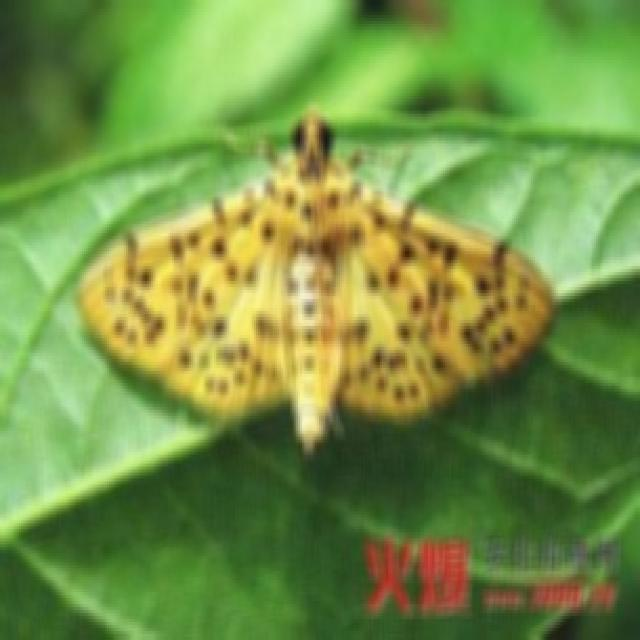peach borer: (72, 100, 565, 471)
